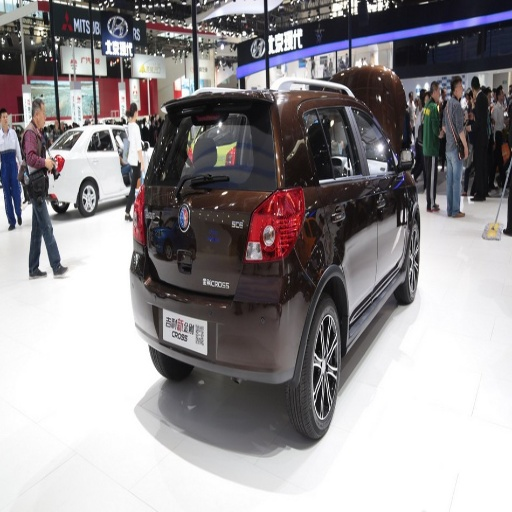back_bumper: (131, 270, 312, 382)
back_glass: (152, 103, 273, 182)
back_left_door: (380, 177, 403, 270)
back_right_door: (345, 230, 373, 314)
trunk: (147, 183, 279, 304), (291, 181, 365, 247)
